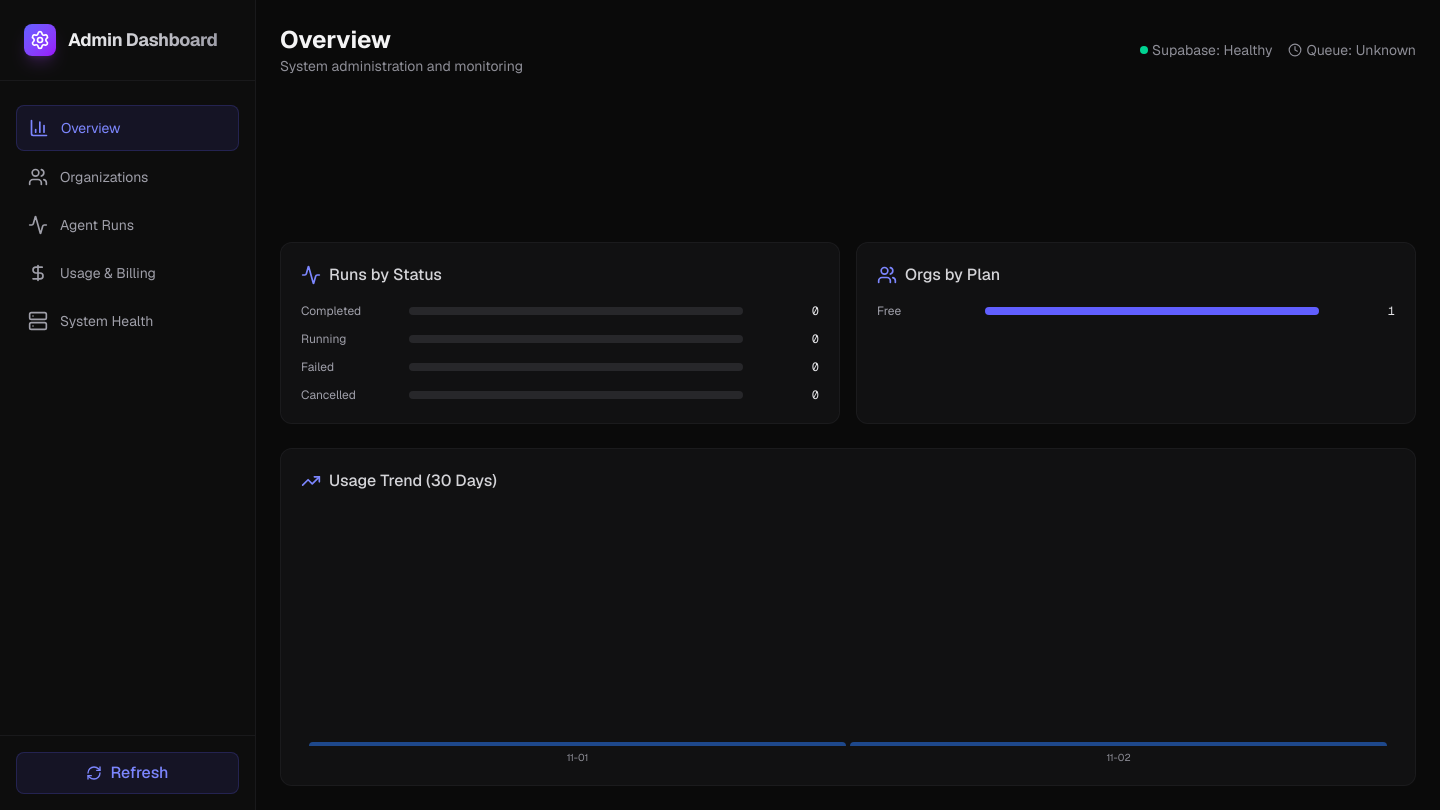
Admin page › shows a runs-table error distinctly from an empty list
This screenshot has width=1440, height=810.
Click the button "Agent Runs" at point(128, 225), box [16, 203, 239, 247]
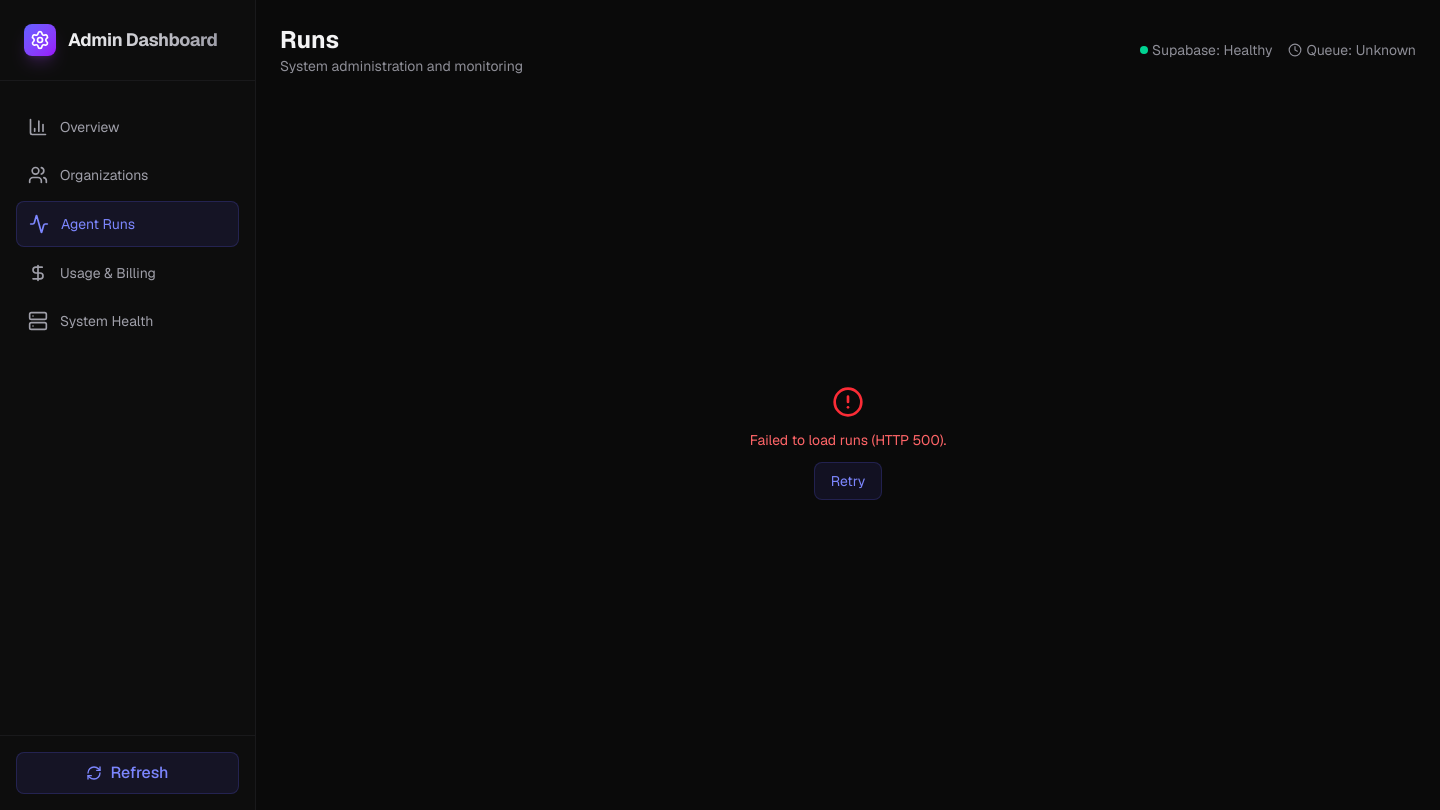
expect the message shows "Failed to load runs": met, box [750, 431, 946, 449]
